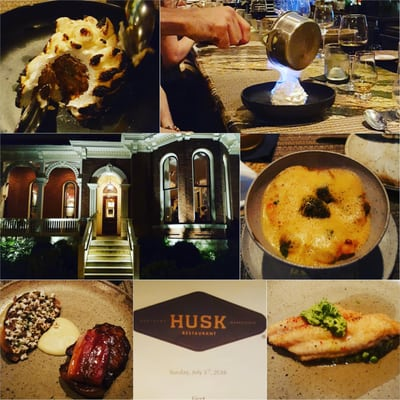pasta: (37, 317, 80, 356)
sushi: (244, 158, 391, 276), (0, 280, 133, 400), (240, 80, 335, 124)
